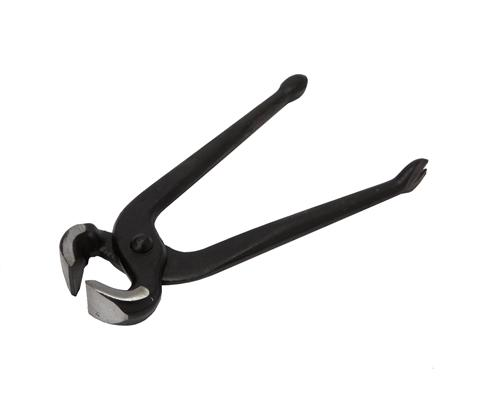Pincers: (55, 66, 434, 339)
